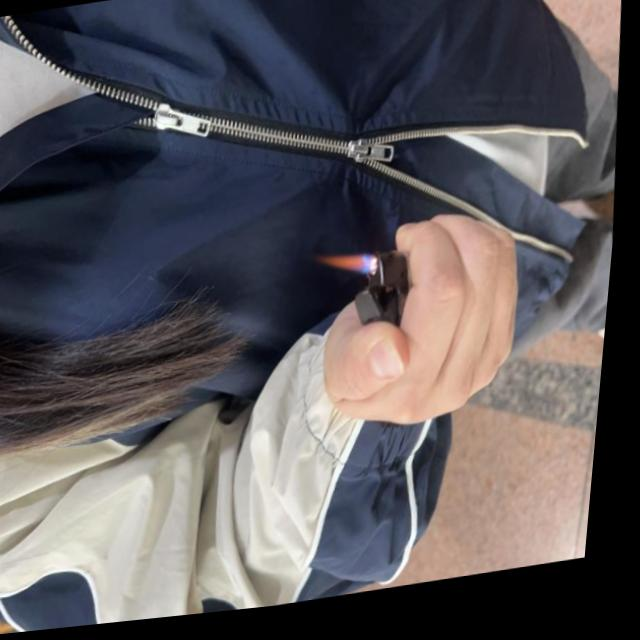Fire: (318, 254, 384, 290)
